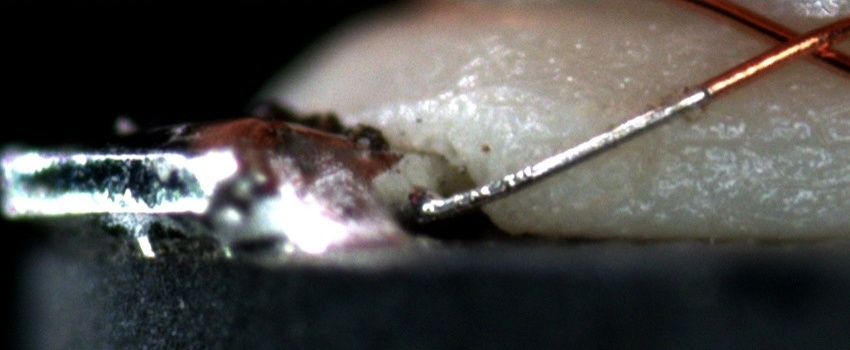CL: (749, 15, 844, 70)
DL: (637, 115, 850, 179)
TS: (419, 85, 710, 221)
